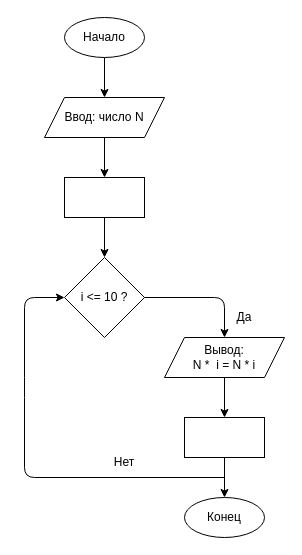
This 302x555 diagram has some shape labels left out. Each missing label, with the centre of its shape:
"i = 1" goes at point (104, 197).
"i = i + 1" goes at point (224, 437).
